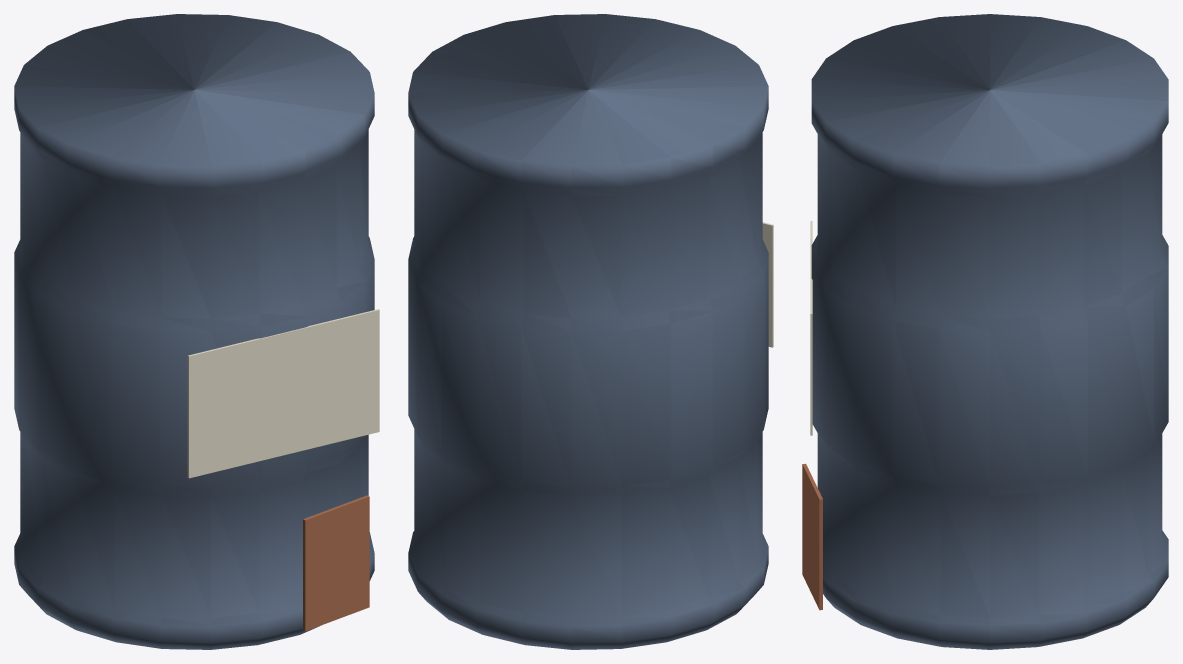
The model's file is garage_oil_drum_a.glb.
3 views of the same model, side by side, from view 1: azimuth 30°, elevation 25°; view 2: azimuth 150°, elevation 25°; view 3: azimuth 270°, elevation 25° (orthographic).
Parts seen in each view (by area): view 1: body; view 2: body; view 3: body.
Part boxes in pixels (box(x1,y1,x2,y2)): body: box(14, 14, 379, 649); body: box(408, 14, 773, 649); body: box(802, 14, 1168, 649).
Size of what is drawn, in the model's own units: 0.59 by 0.88 by 0.5988.
